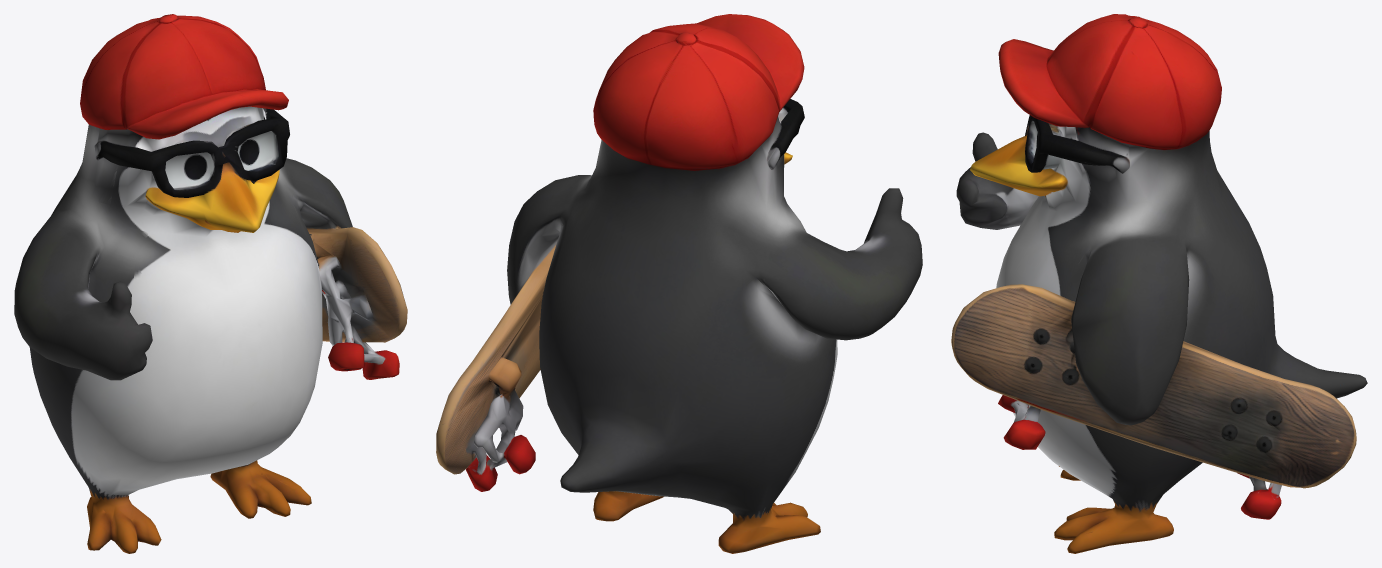
Rendered from 高雅企鹅-滑板.fbx.
3 renders of one model, left to right at view 1: azimuth 30°, elevation 25°; view 2: azimuth 150°, elevation 25°; view 3: azimuth 270°, elevation 25°, orthographic.
Parts seen in each view (by area): view 1: tripo_node_d576d1a0; view 2: tripo_node_d576d1a0; view 3: tripo_node_d576d1a0.
Part boxes in pixels (x1=…): tripo_node_d576d1a0: x1=14, y1=14, x2=407, y2=553; tripo_node_d576d1a0: x1=436, y1=14, x2=922, y2=553; tripo_node_d576d1a0: x1=951, y1=14, x2=1367, y2=553.
Bounding box in the file's own units: 0.7466 × 1 × 0.7792.
Materials: 1 (1 with a texture image).
